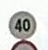limite 40: (7, 9, 36, 39)
